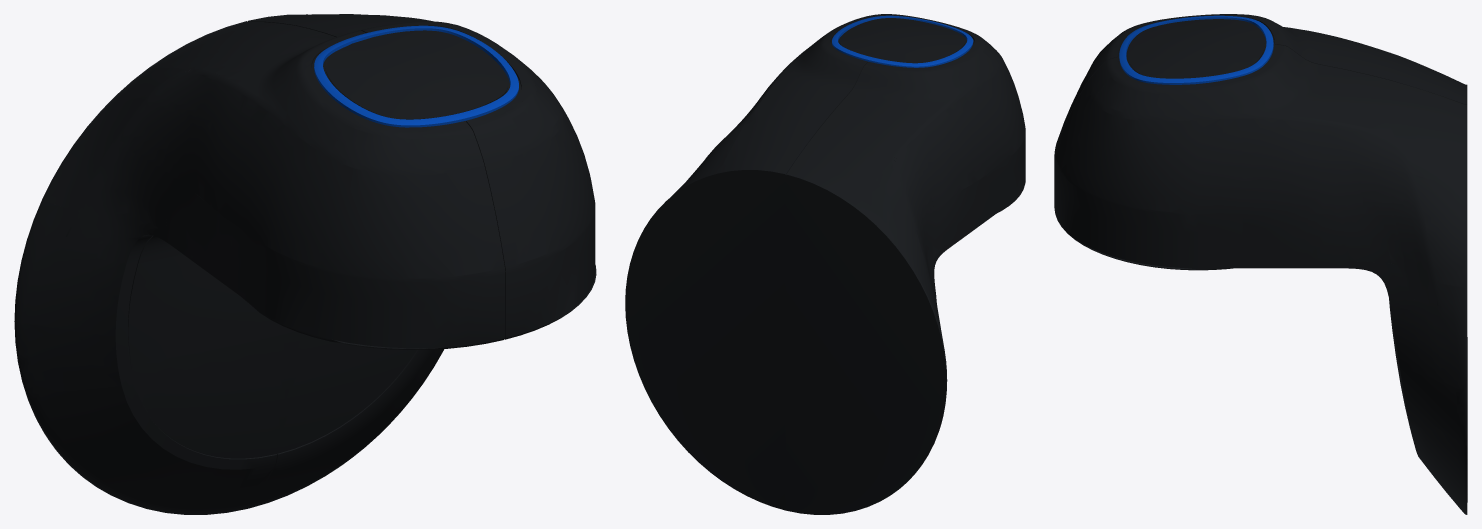
Rendered from seg1.obj.
3 views of the same model, side by side, from view 1: azimuth 30°, elevation 25°; view 2: azimuth 150°, elevation 25°; view 3: azimuth 270°, elevation 25° (orthographic). The views are drawn at different scales.
Parts seen in each view (by area): view 1: E04760002.005_E04760002-mesh.004, E05111978.001_E05111978-mesh; view 2: E04760002.005_E04760002-mesh.004, E05111978.001_E05111978-mesh; view 3: E04760002.005_E04760002-mesh.004, E05111978.001_E05111978-mesh.
Part boxes in pixels (bbox=[...]): E04760002.005_E04760002-mesh.004: bbox=[14, 14, 596, 514]; E05111978.001_E05111978-mesh: bbox=[314, 25, 518, 127]; E04760002.005_E04760002-mesh.004: bbox=[625, 14, 1025, 514]; E05111978.001_E05111978-mesh: bbox=[832, 15, 973, 67]; E04760002.005_E04760002-mesh.004: bbox=[1054, 14, 1467, 514]; E05111978.001_E05111978-mesh: bbox=[1119, 15, 1273, 84].
Bounding box in the file's own units: 216 × 251 × 207.
